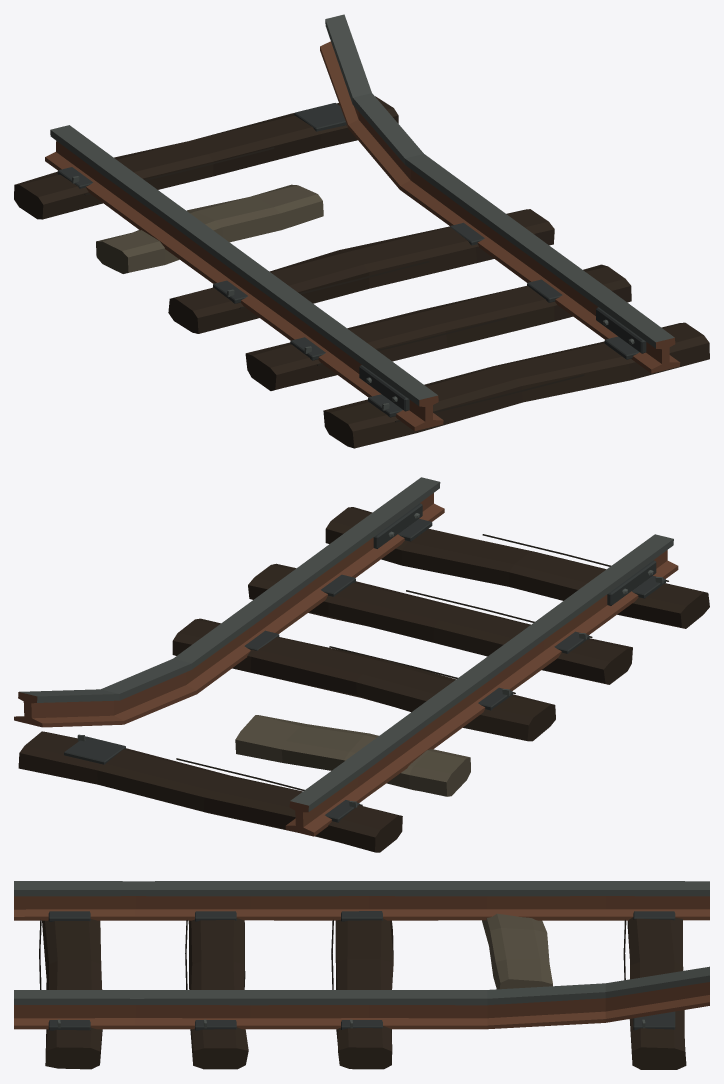
File: rails-broken.glb
3 renders of one model, top to bottom at view 1: azimuth 30°, elevation 25°; view 2: azimuth 150°, elevation 25°; view 3: azimuth 270°, elevation 25°, orthographic. The views are drawn at different scales.
Parts seen in each view (by area): view 1: Wood, Iron; view 2: Wood, Iron; view 3: Iron, Wood.
Boxes of the visible parts, x1,y1,x2,y2 form: Wood: [14, 96, 709, 448]; Iron: [45, 14, 680, 431]; Wood: [18, 507, 709, 852]; Iron: [14, 477, 678, 836]; Iron: [14, 881, 709, 1030]; Wood: [39, 913, 686, 1069].
Size of the model in its own units: 1.12 by 0.2877 by 2.
